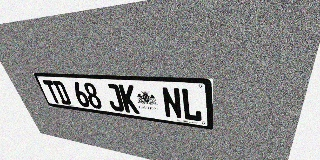6: (70, 82, 91, 108)
8: (82, 82, 103, 109)
D: (52, 81, 72, 105)
J: (104, 83, 125, 112)
K: (118, 84, 140, 114)
L: (180, 88, 202, 122)
N: (161, 87, 183, 120)
T: (42, 80, 62, 104)
